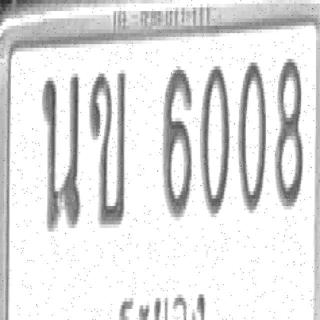A02: (88, 68, 127, 226)
A25: (41, 70, 80, 232)
N00: (200, 62, 230, 217), (237, 59, 267, 213)
N06: (162, 64, 192, 219)
N08: (274, 55, 302, 210)
